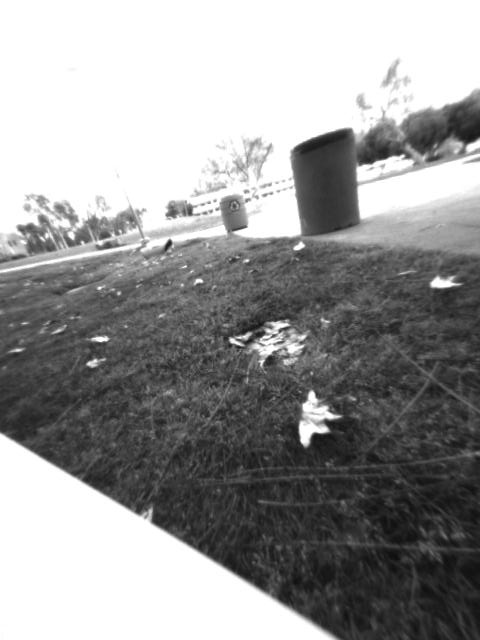trashcan: (288, 126, 365, 238), (216, 192, 250, 234)
